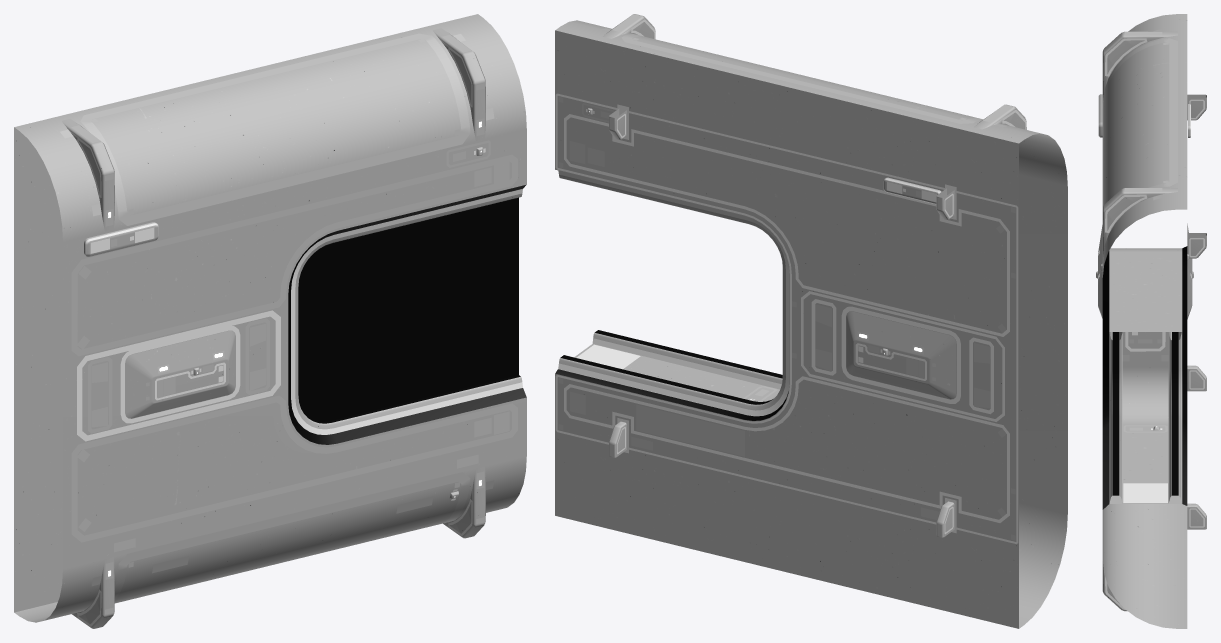
Rendered from SM_WallWindow_1_Merged.fbx.
3 views of the same model, side by side, from view 1: azimuth 30°, elevation 25°; view 2: azimuth 150°, elevation 25°; view 3: azimuth 270°, elevation 25° (orthographic). The views are drawn at different scales.
Visible parts, largest first — view 1: SM_WallWindow_1_Merged_LOD0; view 2: SM_WallWindow_1_Merged_LOD0; view 3: SM_WallWindow_1_Merged_LOD0.
Boxes of the visible parts, left/top/right/bottom form: SM_WallWindow_1_Merged_LOD0: left=14, top=14, right=526, bottom=628; SM_WallWindow_1_Merged_LOD0: left=555, top=14, right=1067, bottom=628; SM_WallWindow_1_Merged_LOD0: left=1096, top=14, right=1206, bottom=628.
Bounding box in the file's own units: 500 × 120 × 500.
